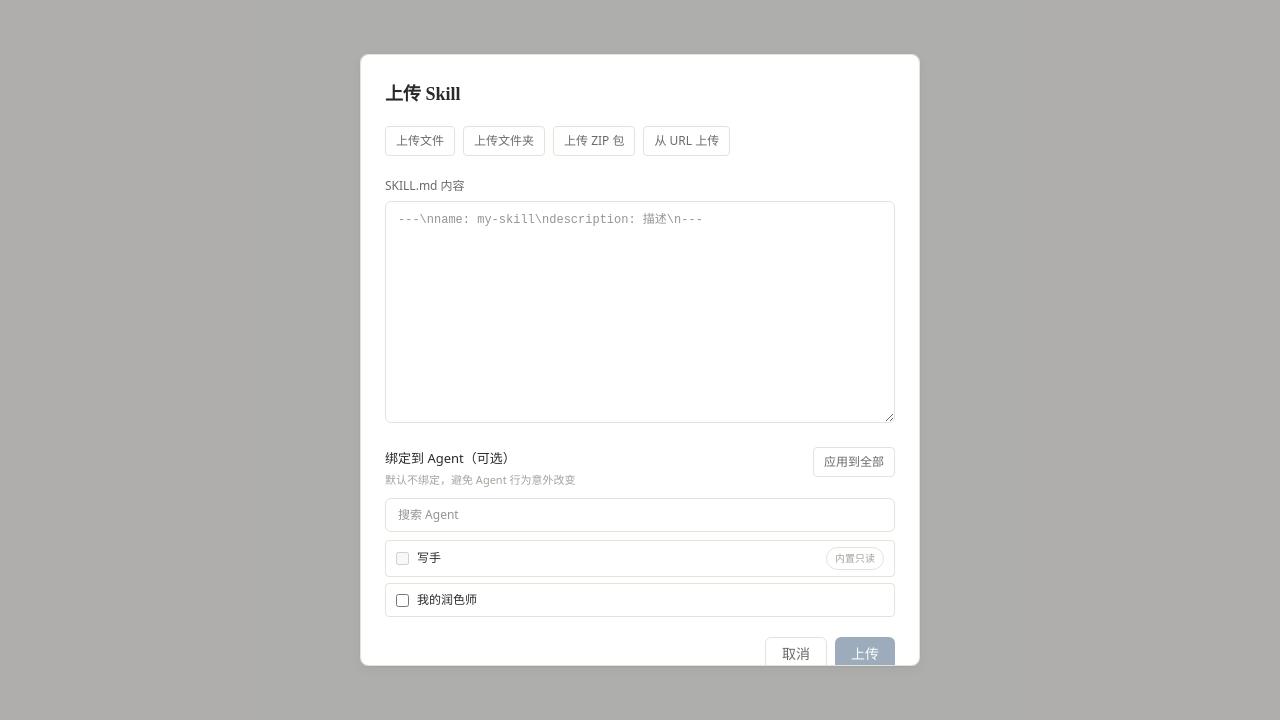
Test: SkillUploadDialog — 绑定区（D1） › 应用到全部 → 勾选全部非内置（内置仍禁用）
Expected: the text "我的润色师" is shown, left=385, top=583, right=895, bottom=618
Click the button with test id "skill-bind-all" at (854, 462), box left=813, top=447, right=895, bottom=477
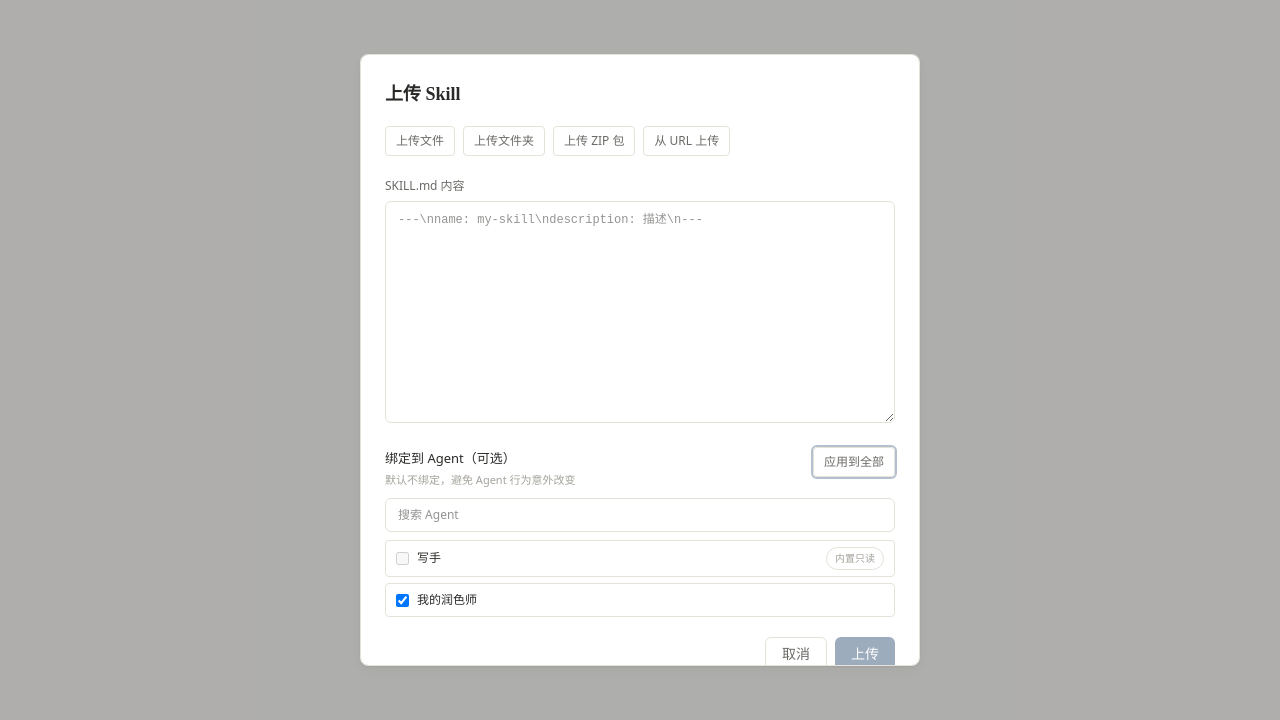
Expected: the checkbox labelled "写手 内置只读" is not checked, left=396, top=552, right=409, bottom=565
Expected: the checkbox labelled "我的润色师" is checked, left=396, top=594, right=409, bottom=607
Note: toggle：再点 → 取消
Click the button with test id "skill-bind-all" at (854, 462), box left=813, top=447, right=895, bottom=477
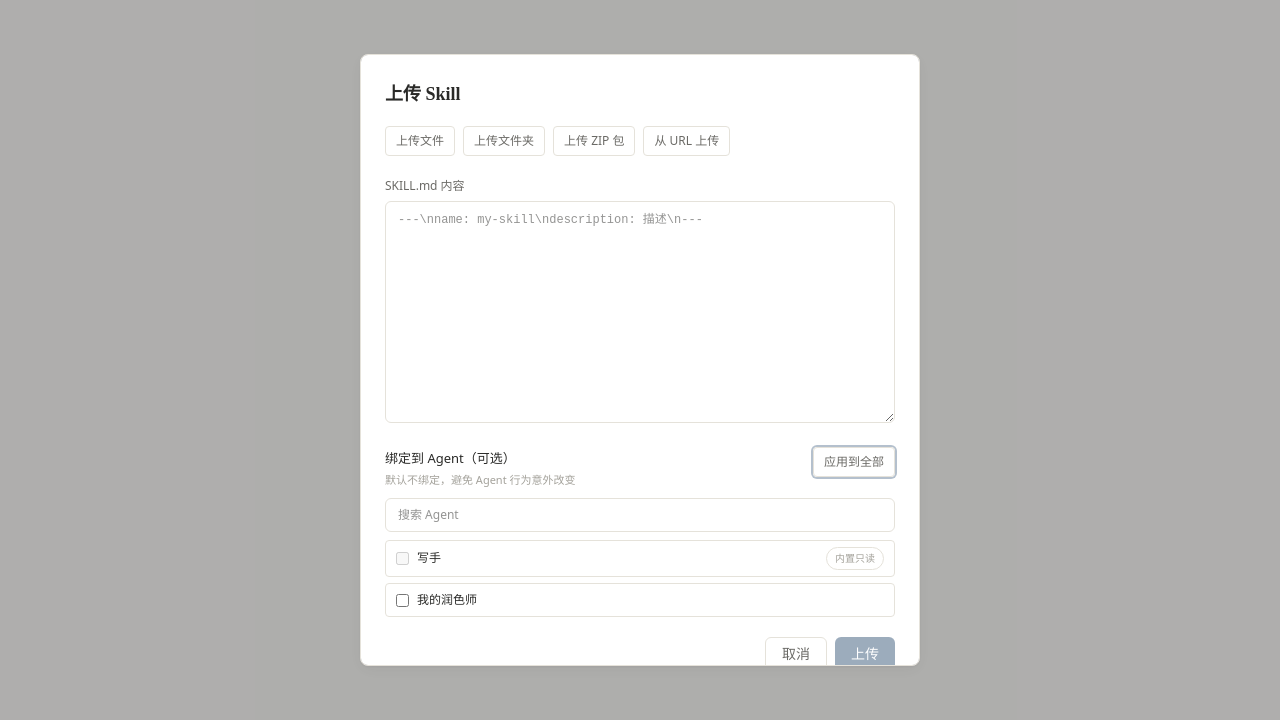
Expected: the checkbox labelled "我的润色师" is not checked, left=396, top=594, right=409, bottom=607
